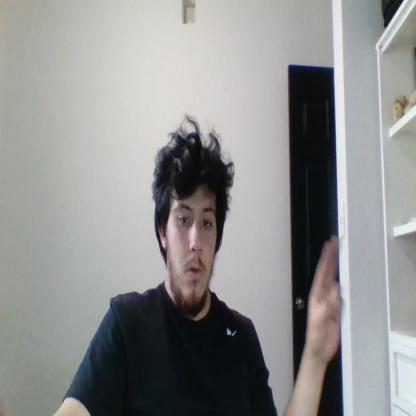U: (307, 234, 343, 361)
